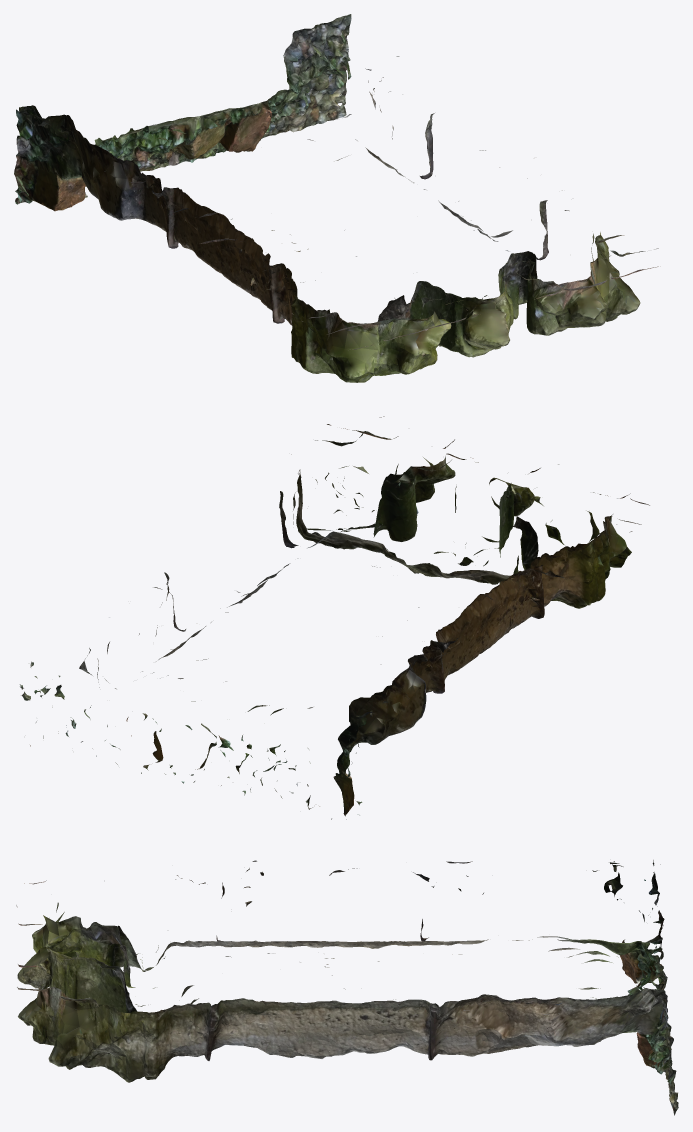
The model's file is stone_tablet_iii.glb.
The picture shows the model from 3 angles, top to bottom: view 1: azimuth 30°, elevation 25°; view 2: azimuth 150°, elevation 25°; view 3: azimuth 270°, elevation 25°; orthographic projection.
Parts seen in each view (by area): view 1: default; view 2: default; view 3: default.
Boxes of the visible parts, bbox=[...] form: default: bbox=[14, 14, 660, 382]; default: bbox=[19, 416, 649, 819]; default: bbox=[16, 860, 678, 1115].
Size of the model in its own units: 11.79 by 3.6 by 20.27.
1 material, 1 textured.
